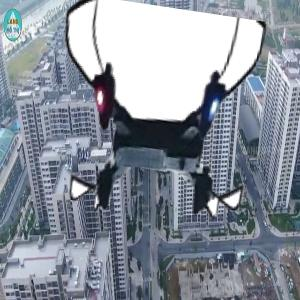drone: (50, 8, 270, 228)
